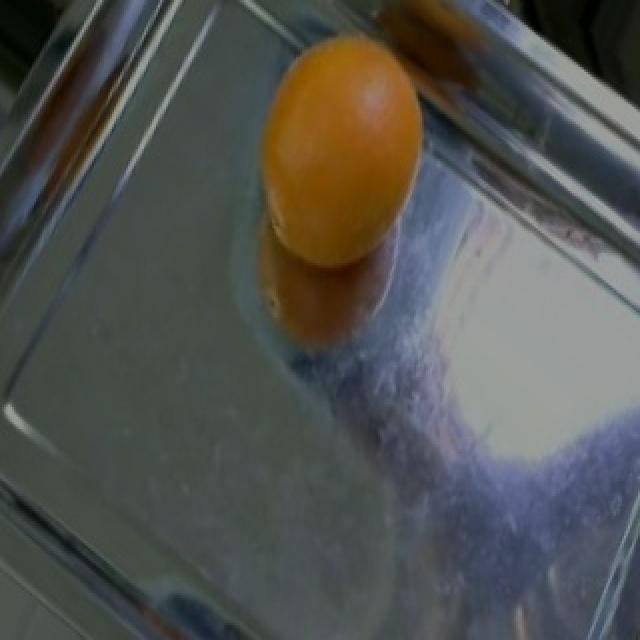Fruit: (242, 20, 446, 290)
